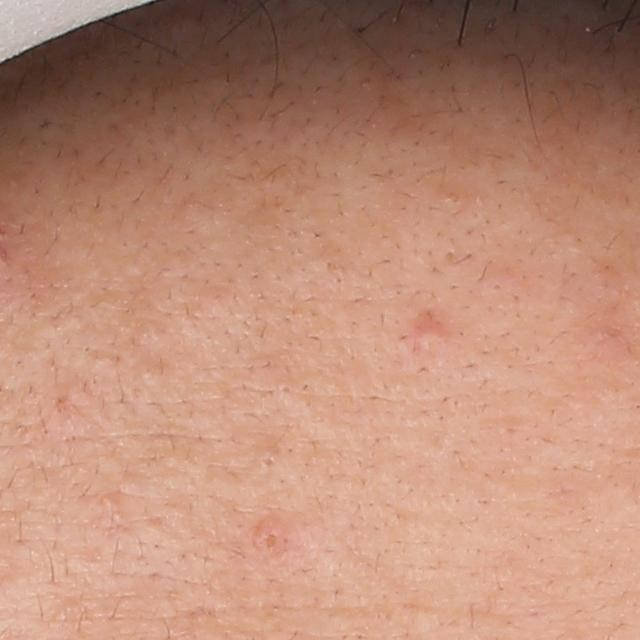comedo: (256, 529, 287, 563), (253, 451, 282, 474), (276, 379, 299, 401)
